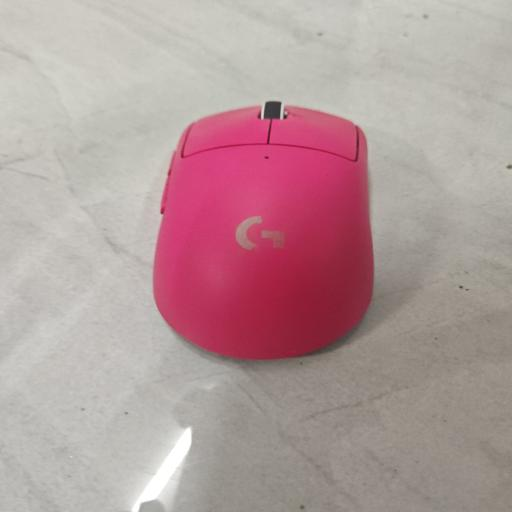mouse: (154, 102, 374, 358)
